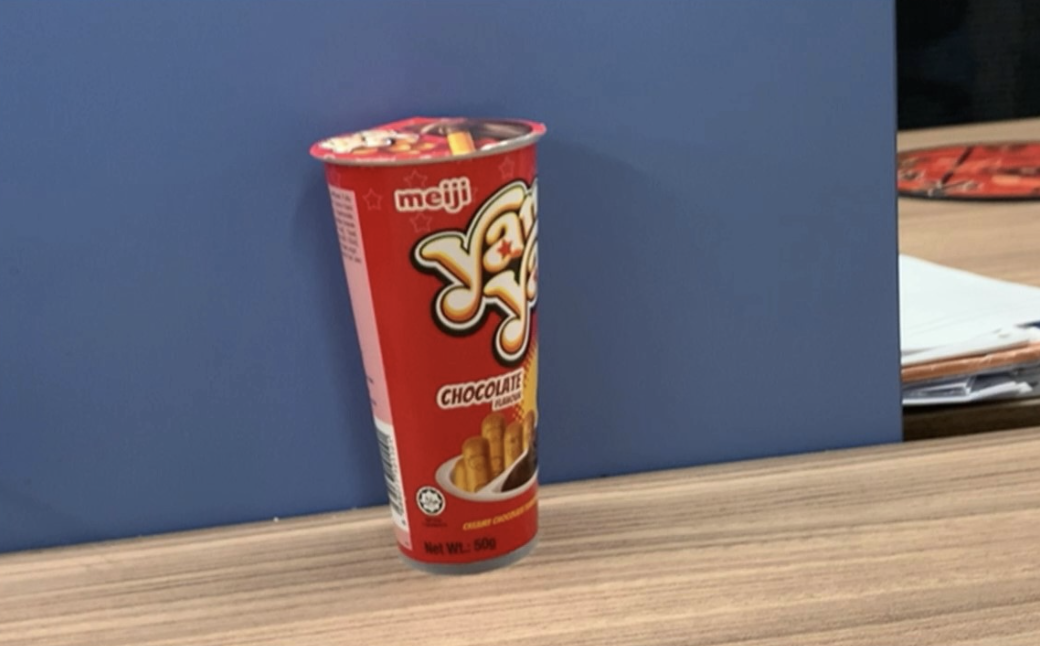crackers_1g-99g: (388, 172, 530, 545)
